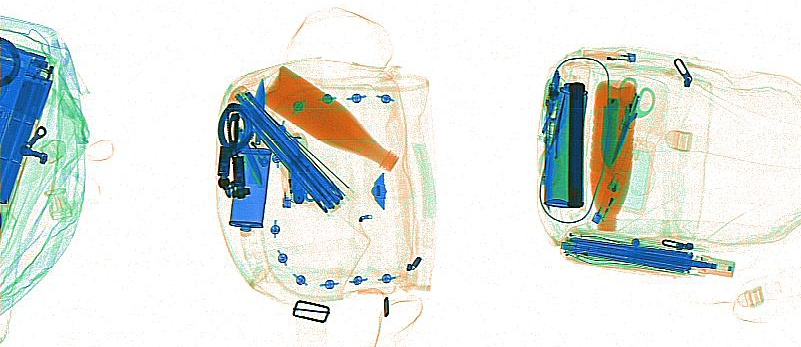handcuffs: (214, 101, 255, 199)
knife: (245, 77, 264, 183), (235, 124, 265, 188), (599, 95, 622, 172), (287, 131, 309, 203)
lighter: (591, 171, 628, 225), (276, 158, 292, 208), (582, 48, 636, 60)
pressure: (542, 60, 590, 208)
scissors: (609, 76, 655, 165), (536, 92, 566, 187)
zippooil: (227, 146, 271, 233)
